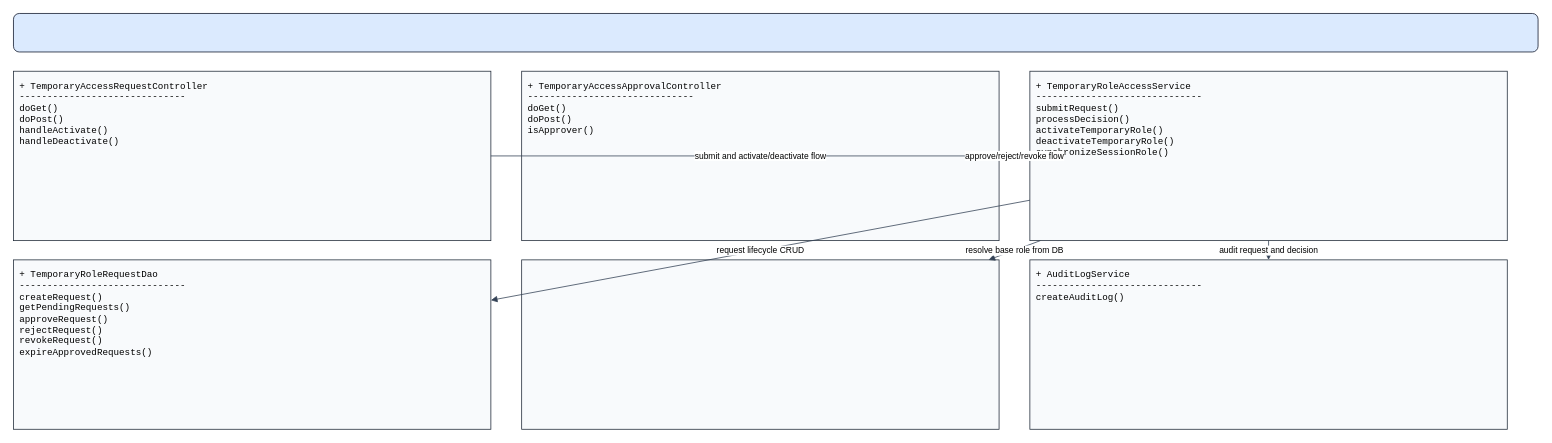
Some shapes in this 1552 by 443 pixel diagram are drawn without their labels. Each missing label, with the centre of its shape:
+ UserDao ------------------------------ getUserById(): pixel 760 344
Class Diagram - Temporary Permission Assignment: pixel 775 32
